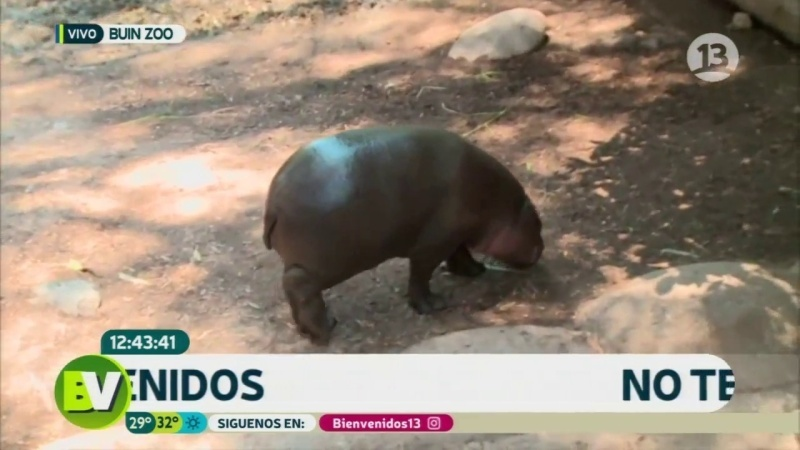hipopotamo: (243, 109, 563, 352)
